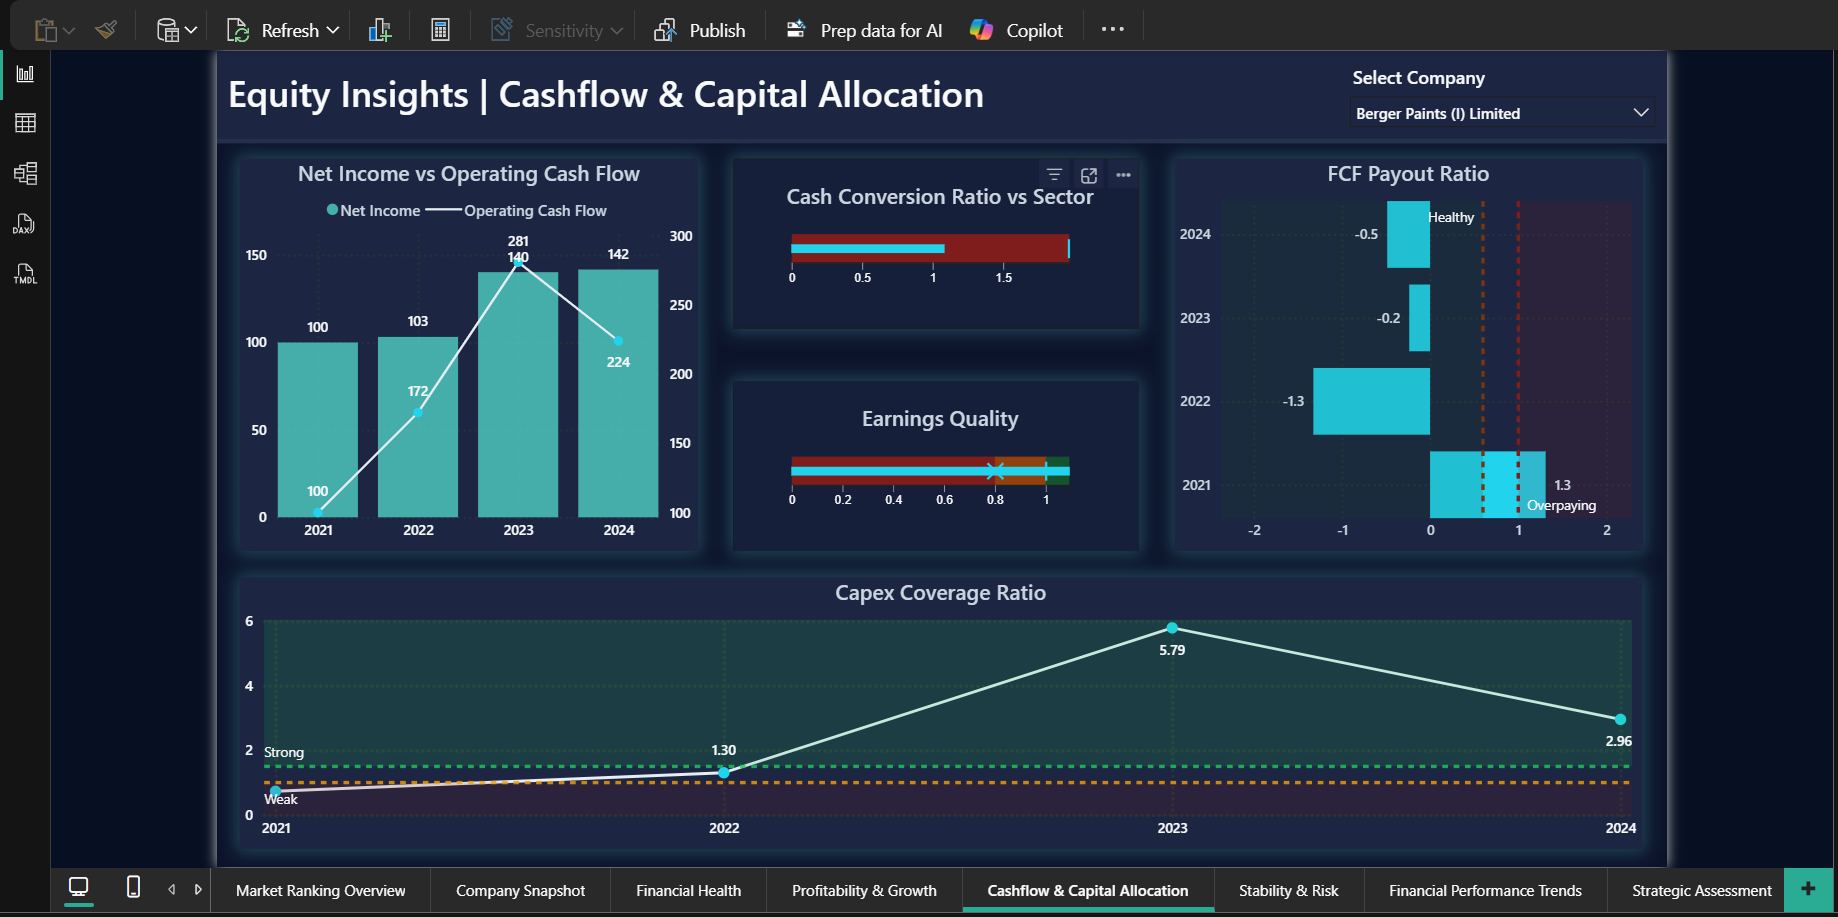

This screenshot's page, from the dashboard's own definition file:
{"tool":"powerbi","page":{"name":"Cashflow & Capital Allocation","canvas":[1280,720],"ordinal":4},"visuals":[{"type":"shape","box":[0,0,1280,80],"z":0,"group":"g1"},{"type":"lineClusteredColumnComboChart","title":"Net Income vs Operating Cash Flow","fields":{"Category":["gold_equity_derivedmetrics_allyears.fiscal_year"],"Y":["gold_equity_derivedmetrics_allyears.Net Income (Index 100)"],"Y2":["gold_equity_derivedmetrics_allyears.Operating Cash Flow (Index 100)"]},"box":[20,95,405,346.7],"z":0},{"type":"textbox","box":[4.3,0,694.3,80],"z":1000,"group":"g1"},{"type":"BulletChart1443347686880","title":"Cash Conversion Ratio vs Sector","fields":{"Value":["Max(gold_equity_derivedmetrics.cash_conversion_ratio)"],"Category":["gold_equity_basemetrics.symbol"],"TargetValue":["Max(vw_sector_averages.avg_cash_conversion)"],"VeryGood":["Max(vw_sector_averages.avg_cash_conversion)"]},"box":[456,95,358.3,150],"z":1000},{"type":"slicer","fields":{"Values":["gold_equity_basemetrics.company_name"]},"box":[990,0,290,80],"z":2000,"group":"g1"},{"type":"lineChart","title":"Capex Coverage Ratio","fields":{"Category":["gold_equity_derivedmetrics_allyears.fiscal_year"],"Y":["gold_equity_derivedmetrics_allyears.Capex Coverage Ratio All Years"]},"box":[20,465,1238.3,240],"z":2000},{"type":"group","id":"g1","title":"Group 1","box":[0,0,1280,93.3],"z":3000},{"type":"shape","box":[0,66.7,1280,26.7],"z":4000,"group":"g1"},{"type":"BulletChart1443347686880","title":"Earnings Quality","fields":{"Value":["gold_equity_derivedmetrics_allyears.Earnings Quality"],"Category":["gold_equity_derivedmetrics_allyears.symbol"]},"box":[456,291,358.3,150],"z":4000},{"type":"clusteredBarChart","title":"FCF Payout Ratio","fields":{"Y":["gold_equity_derivedmetrics_allyears.FCF Payout Ratio All Years"],"Category":["gold_equity_derivedmetrics_allyears.fiscal_year"]},"box":[845,95,413.3,346.7],"z":5000}]}

Visuals, with their boxes on the page's 1280x720 design canvas (x1, y1, x2, y2). These are canvas units, not pixel positions in the 1838x917 screenshot, which may show the page scaled, cropped or inside an application window:
shape: rect(0, 0, 1280, 80)
"Net Income vs Operating Cash Flow" lineClusteredColumnComboChart: rect(20, 95, 425, 442)
textbox: rect(4, 0, 699, 80)
"Cash Conversion Ratio vs Sector" BulletChart1443347686880: rect(456, 95, 814, 245)
slicer - gold_equity_basemetrics.company_name: rect(990, 0, 1280, 80)
"Capex Coverage Ratio" lineChart: rect(20, 465, 1258, 705)
"Group 1" group: rect(0, 0, 1280, 93)
shape: rect(0, 67, 1280, 93)
"Earnings Quality" BulletChart1443347686880: rect(456, 291, 814, 441)
"FCF Payout Ratio" clusteredBarChart: rect(845, 95, 1258, 442)
